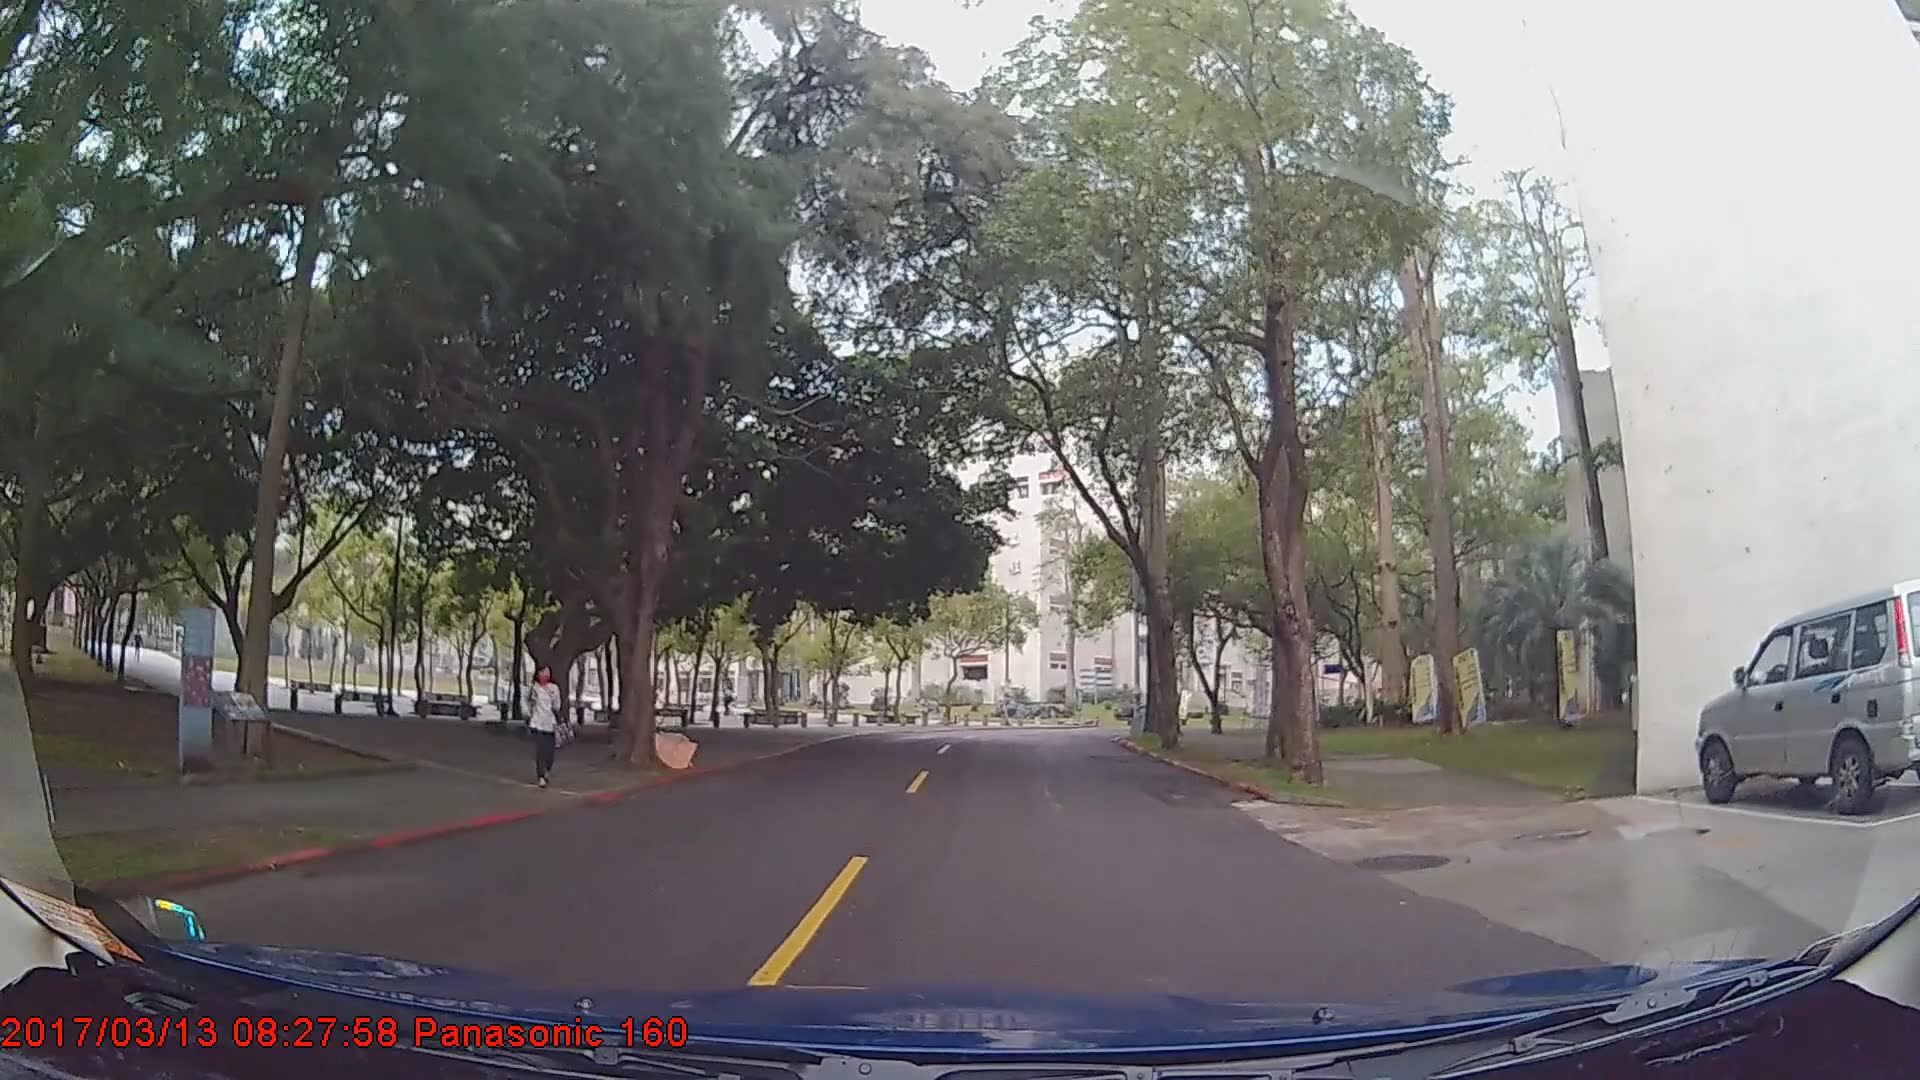pedestrian: (519, 664, 570, 791)
vehicle: (1696, 583, 1920, 819)
